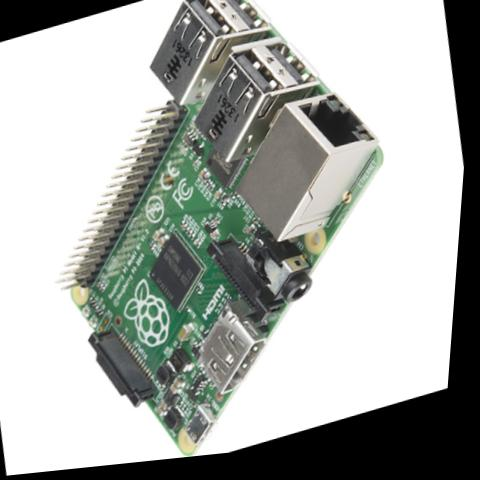Raspberry-Pi-1-Model-B-: (0, 0, 454, 478)
